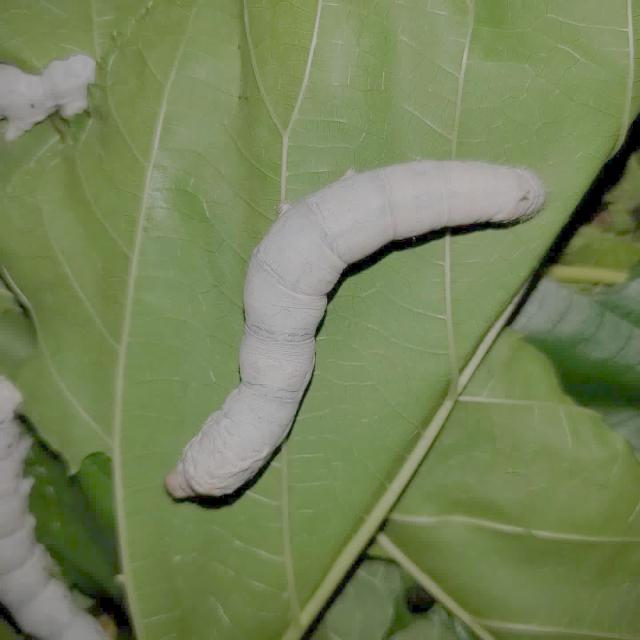Healthy: (154, 138, 574, 520)
